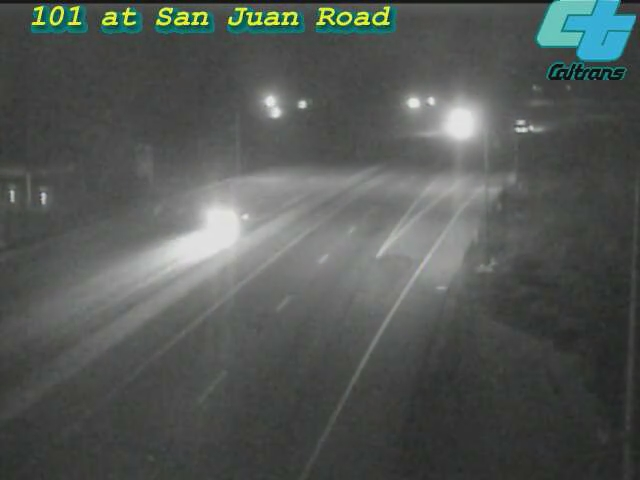vehicle: (183, 174, 263, 254), (434, 98, 484, 148), (502, 100, 552, 150)
